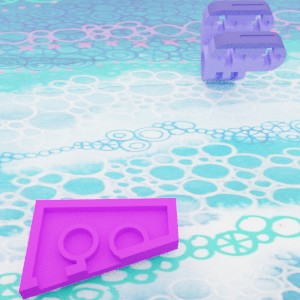lego: (18, 197, 179, 299), (200, 0, 286, 80)
